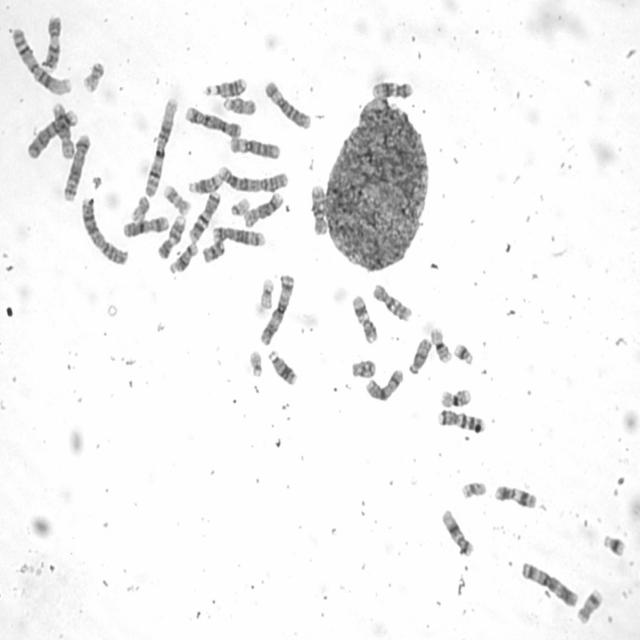A1: (10, 24, 74, 96), (142, 94, 179, 198)
A2: (78, 193, 130, 267), (215, 160, 290, 193)
A3: (518, 558, 580, 608), (257, 270, 296, 346)
B4: (24, 104, 79, 160), (183, 102, 242, 139)
B5: (61, 130, 92, 202), (210, 222, 266, 248)
C10: (370, 280, 413, 322), (308, 181, 328, 236)
C11: (349, 291, 379, 346), (492, 481, 539, 509)
C12: (439, 505, 475, 558), (369, 76, 415, 100)
C6: (262, 75, 312, 130), (226, 133, 282, 160)
C7: (187, 187, 222, 243), (435, 405, 487, 434)
C8: (241, 188, 285, 228), (49, 98, 76, 160)
C9: (155, 211, 188, 259), (38, 12, 64, 72)
D13: (265, 346, 299, 387), (200, 73, 248, 98)
D14: (167, 238, 200, 275), (186, 168, 225, 195)
D15: (406, 334, 433, 376), (220, 92, 258, 116)
E16: (428, 322, 453, 364), (438, 384, 472, 409)
E17: (574, 584, 605, 626), (161, 181, 193, 216)
E18: (200, 235, 226, 264), (349, 356, 377, 379)
F19: (257, 274, 276, 311), (460, 481, 489, 499)
F20: (80, 56, 106, 94), (128, 192, 152, 222)
G21: (600, 529, 628, 558), (452, 339, 476, 366)
G22: (228, 193, 251, 217), (247, 346, 264, 378)
X: (363, 364, 405, 403), (120, 212, 170, 238)
